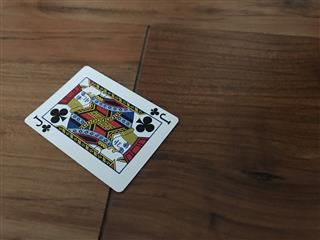JackOfClubs: (23, 64, 179, 193)
